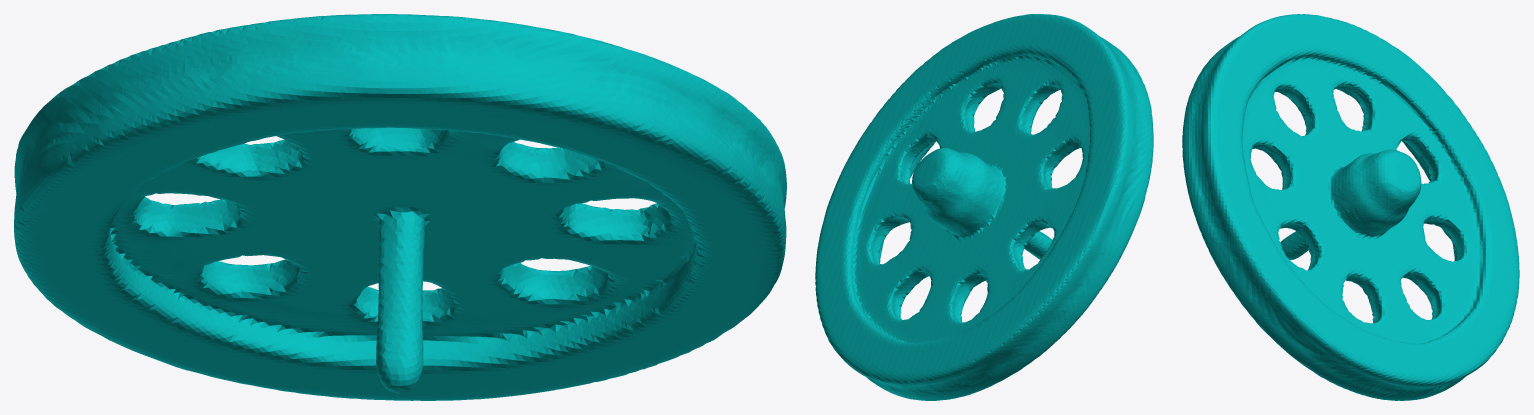
The picture shows the model from 3 angles, left to right: view 1: azimuth 30°, elevation 25°; view 2: azimuth 150°, elevation 25°; view 3: azimuth 270°, elevation 25°; orthographic projection. The views are drawn at different scales.
Size of the model in its own units: 0.9736 by 0.8314 by 0.8374.
